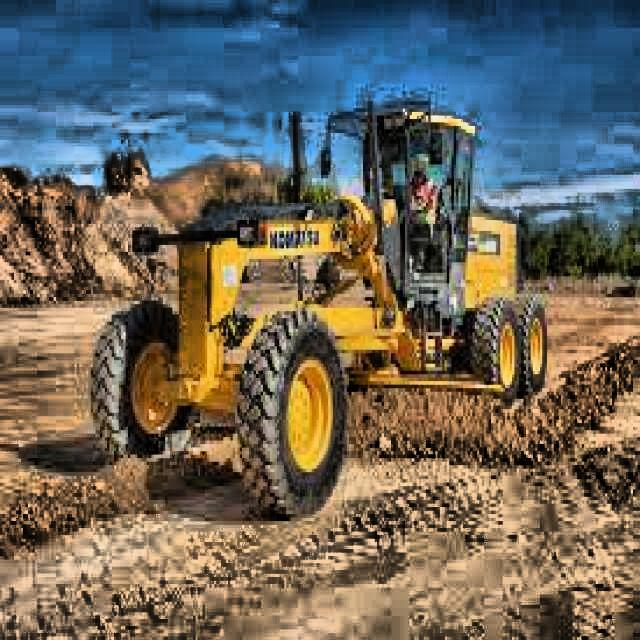bull_dozer/loader/grader: (88, 90, 552, 526)
person: (409, 150, 442, 266)
